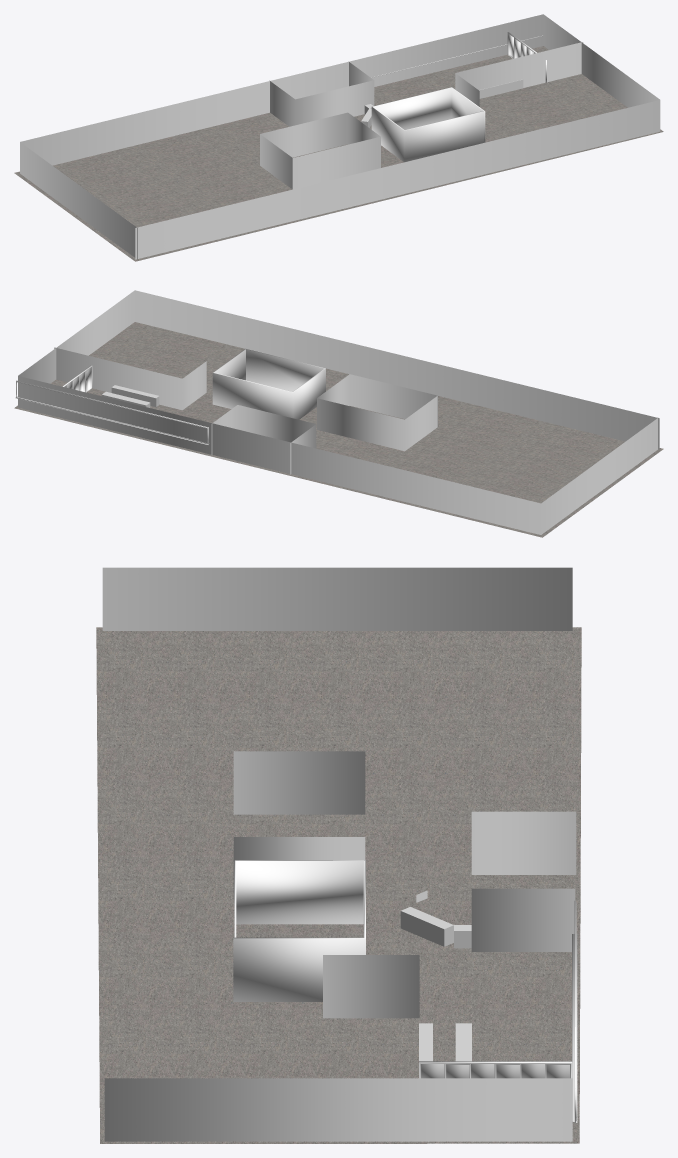
File: TheFifth_v11.glb
3 renders of one model, top to bottom at view 1: azimuth 30°, elevation 25°; view 2: azimuth 150°, elevation 25°; view 3: azimuth 270°, elevation 25°, orthographic. The views are drawn at different scales.
Visible parts, largest first — view 1: Wall, floor, Wall.003, Wall.004, Wall.002, Wall.001, Cube.001; view 2: Wall, floor, Wall.003, Wall.004, Wall.002, Wall.001, Window.001, Window Panel.006, Cube.001; view 3: floor, Wall, Wall.004, Wall.001, Wall.003, Wall.002, FrontDesk2, Window.001.
Part boxes in pixels (left/top/right/bottom): Wall: left=20, top=14, right=660, bottom=259; floor: left=14, top=46, right=663, bottom=261; Wall.003: left=260, top=112, right=380, bottom=189; Wall.004: left=371, top=87, right=485, bottom=162; Wall.002: left=455, top=42, right=583, bottom=106; Wall.001: left=269, top=62, right=374, bottom=126; Cube.001: left=479, top=79, right=523, bottom=98; Wall: left=18, top=290, right=659, bottom=534; floor: left=14, top=322, right=663, bottom=537; Wall.003: left=317, top=374, right=437, bottom=451; Wall.004: left=212, top=348, right=325, bottom=419; Wall.002: left=54, top=347, right=206, bottom=410; Wall.001: left=211, top=405, right=316, bottom=474; Window.001: left=15, top=380, right=208, bottom=445; Window Panel.006: left=16, top=381, right=207, bottom=444; Cube.001: left=111, top=385, right=159, bottom=406; floor: left=96, top=627, right=581, bottom=1143; Wall: left=102, top=567, right=572, bottom=1141; Wall.004: left=233, top=860, right=365, bottom=1001; Wall.001: left=471, top=811, right=576, bottom=951; Wall.003: left=233, top=751, right=365, bottom=899; Wall.002: left=323, top=955, right=419, bottom=1018; FrontDesk2: left=400, top=907, right=453, bottom=946; Window.001: left=572, top=900, right=577, bottom=1123.
Size of the model in its own units: 62.97 by 3.66 by 25.
Materials: 13 (1 with a texture image).
